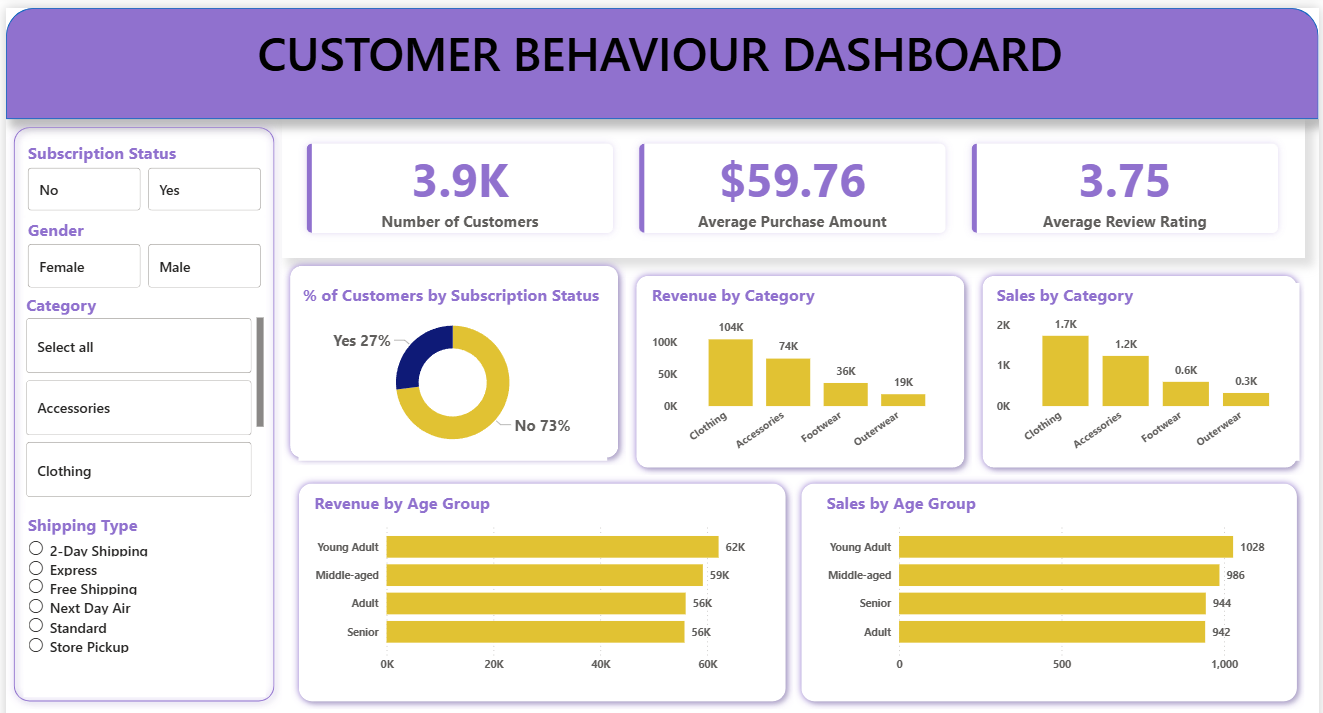

What the dashboard file says about the page in this screenshot:
{"tool":"powerbi","page":{"name":"Page 1","canvas":[1500,820],"ordinal":0},"visuals":[{"type":"cardVisual","fields":{"Data":["customer.Number of Customers","customer.Average Purchase Amount","customer.Average Review Rating"]},"box":[315.7,127.1,1168.6,158.6],"z":0},{"type":"shape","box":[0,0,1500,127.1],"z":1000},{"type":"textbox","box":[10,10,1474.3,107.1],"z":2000},{"type":"shape","box":[315.7,285.7,392.9,237.1],"z":3000},{"type":"donutChart","title":"% of Customers by Subscription Status","fields":{"Category":["customer.subscription_status"],"Y":["CountNonNull(customer.customer_id)"]},"box":[334.3,314.3,352.9,202.9],"z":4000},{"type":"shape","box":[711.4,297.1,392.9,237.1],"z":5000},{"type":"shape","box":[1107.1,297.1,377.1,237.1],"z":6000},{"type":"clusteredColumnChart","title":"Revenue by Category","fields":{"Y":["Sum(customer.purchase_amount)"],"Category":["customer.category"]},"box":[732.9,314.3,351.4,202.9],"z":7000},{"type":"clusteredColumnChart","title":"Sales by Category","fields":{"Category":["customer.category"],"Y":["CountNonNull(customer.customer_id)"]},"box":[1127.1,314.3,351.4,202.9],"z":8000},{"type":"shape","box":[0,127.1,315.7,674.3],"z":9000},{"type":"advancedSlicerVisual","title":"Subscription Status","fields":{"Values":["customer.subscription_status"]},"box":[20,152.9,277.1,84.3],"z":10000},{"type":"advancedSlicerVisual","title":"Gender","fields":{"Values":["customer.gender"]},"box":[20,240,277.1,85.7],"z":11000},{"type":"advancedSlicerVisual","title":"Category","fields":{"Values":["customer.category"]},"box":[20,325.7,277.1,237.1],"z":12000},{"type":"listSlicer","title":"Shipping Type","fields":{"Values":["customer.shipping_type"]},"box":[20,577.1,277.1,210],"z":13000},{"type":"shape","box":[900,534.3,584.3,267.1],"z":14000},{"type":"shape","box":[325.7,534.3,574.3,267.1],"z":15000},{"type":"clusteredBarChart","title":"Revenue by Age Group","fields":{"Y":["Sum(customer.purchase_amount)"],"Category":["customer.age_group"]},"box":[347.1,552.9,514.3,215.7],"z":15001},{"type":"clusteredBarChart","title":"Sales by Age Group","fields":{"Y":["CountNonNull(customer.customer_id)"],"Category":["customer.age_group"]},"box":[932.9,552.9,528.6,215.7],"z":15002}]}

Visuals, with their boxes in screenshot pixels (x1, y1, x2, y2), scaled from the page's 1500x820 canvas onto the 1323x713 screenshot:
cardVisual - customer.Number of Customers x customer.Average Purchase Amount: box(278, 111, 1309, 248)
shape: box(0, 0, 1322, 111)
textbox: box(9, 9, 1309, 102)
shape: box(278, 248, 625, 455)
"% of Customers by Subscription Status" donutChart: box(295, 273, 606, 450)
shape: box(627, 258, 974, 464)
shape: box(976, 258, 1309, 464)
"Revenue by Category" clusteredColumnChart: box(646, 273, 956, 450)
"Sales by Category" clusteredColumnChart: box(994, 273, 1304, 450)
shape: box(0, 111, 278, 697)
"Subscription Status" advancedSlicerVisual: box(18, 133, 262, 206)
"Gender" advancedSlicerVisual: box(18, 209, 262, 283)
"Category" advancedSlicerVisual: box(18, 283, 262, 489)
"Shipping Type" listSlicer: box(18, 502, 262, 684)
shape: box(794, 465, 1309, 697)
shape: box(287, 465, 794, 697)
"Revenue by Age Group" clusteredBarChart: box(306, 481, 760, 668)
"Sales by Age Group" clusteredBarChart: box(823, 481, 1289, 668)
